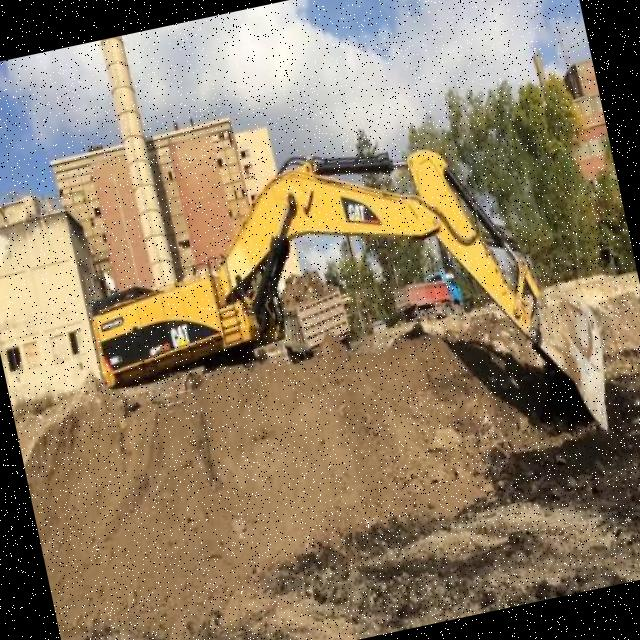Dump Truck: (276, 267, 354, 364), (388, 266, 467, 330)
Excavator: (66, 112, 626, 543)
